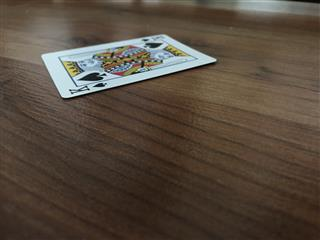KingOfSpades: (40, 33, 216, 98)
